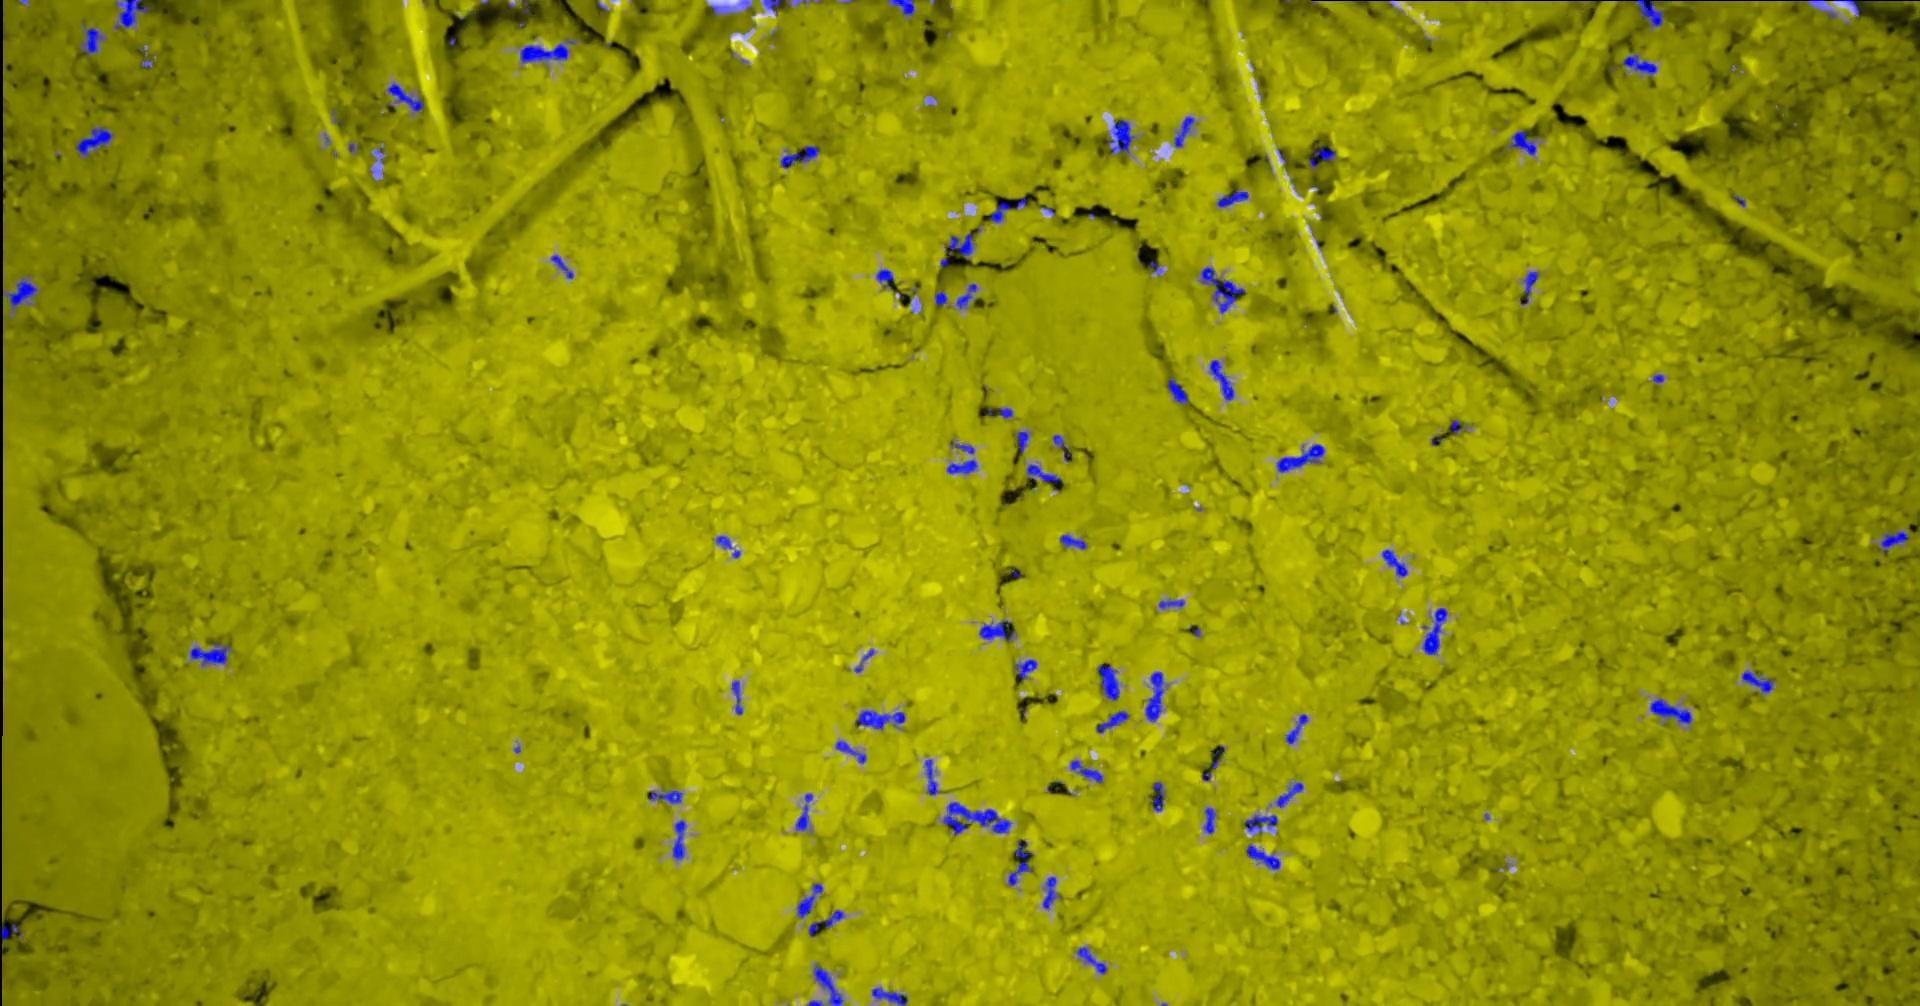ant: (942, 801, 1011, 835), (1200, 265, 1244, 312), (806, 964, 843, 1005), (1618, 0, 1671, 27), (1276, 443, 1324, 473), (519, 38, 575, 62), (1421, 607, 1448, 654), (75, 126, 112, 158), (1007, 840, 1032, 885), (3, 277, 37, 310), (386, 83, 423, 111), (1650, 699, 1691, 723), (114, 0, 149, 29), (1209, 359, 1233, 399), (855, 710, 904, 729), (808, 909, 844, 935), (189, 643, 230, 666), (1145, 671, 1163, 721), (1107, 119, 1134, 152), (1244, 843, 1279, 869), (796, 883, 822, 917), (780, 145, 819, 166), (1076, 946, 1106, 973), (978, 620, 1015, 641), (1622, 55, 1656, 77), (1097, 664, 1119, 700), (1741, 669, 1773, 694), (79, 23, 102, 56), (943, 232, 973, 258), (1070, 760, 1102, 782), (1095, 710, 1128, 732), (1509, 130, 1535, 155), (1382, 549, 1407, 575), (1879, 530, 1909, 553), (836, 741, 865, 763), (1285, 713, 1307, 743), (1173, 116, 1194, 147), (1276, 782, 1303, 807), (1519, 271, 1538, 304), (1026, 464, 1060, 481), (871, 987, 905, 1005), (795, 793, 811, 829), (1043, 876, 1062, 908), (1244, 814, 1277, 832), (1308, 146, 1335, 168), (1167, 375, 1187, 403), (1217, 189, 1248, 207), (550, 254, 573, 278), (955, 283, 977, 307), (1051, 434, 1070, 461), (672, 819, 684, 859), (924, 760, 938, 794), (989, 199, 1010, 222), (855, 649, 874, 672), (946, 459, 977, 473), (649, 790, 682, 803), (1015, 659, 1036, 678), (1150, 781, 1164, 810), (1059, 533, 1086, 549), (888, 0, 913, 15), (731, 680, 742, 714), (1203, 807, 1215, 833), (876, 269, 893, 290), (137, 46, 152, 67), (0, 923, 22, 939), (949, 441, 974, 453), (1210, 746, 1224, 768), (1016, 431, 1029, 453), (1158, 600, 1183, 608), (1448, 419, 1464, 432), (715, 535, 731, 547), (935, 290, 946, 305), (763, 0, 780, 10), (998, 406, 1012, 418)
